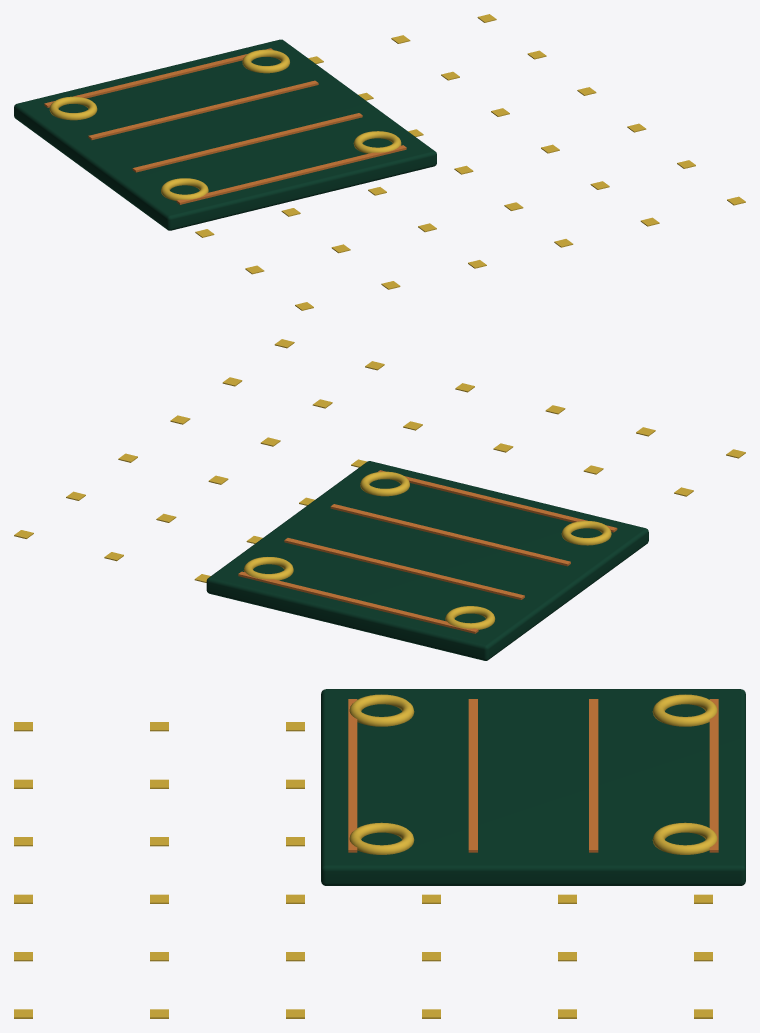
3 renders of one model, top to bottom at view 1: azimuth 30°, elevation 25°; view 2: azimuth 150°, elevation 25°; view 3: azimuth 270°, elevation 25°, orthographic. The views are drawn at different scales.
Parts seen in each view (by area): view 1: part_024; view 2: part_024; view 3: part_024.
Boxes of the visible parts, x1,y1,x2,y2 form: part_024: (14, 14, 745, 310); part_024: (14, 339, 745, 660); part_024: (14, 689, 745, 1018).
Bounding box in the file's own units: 0.9645 × 0.042 × 0.9645.
